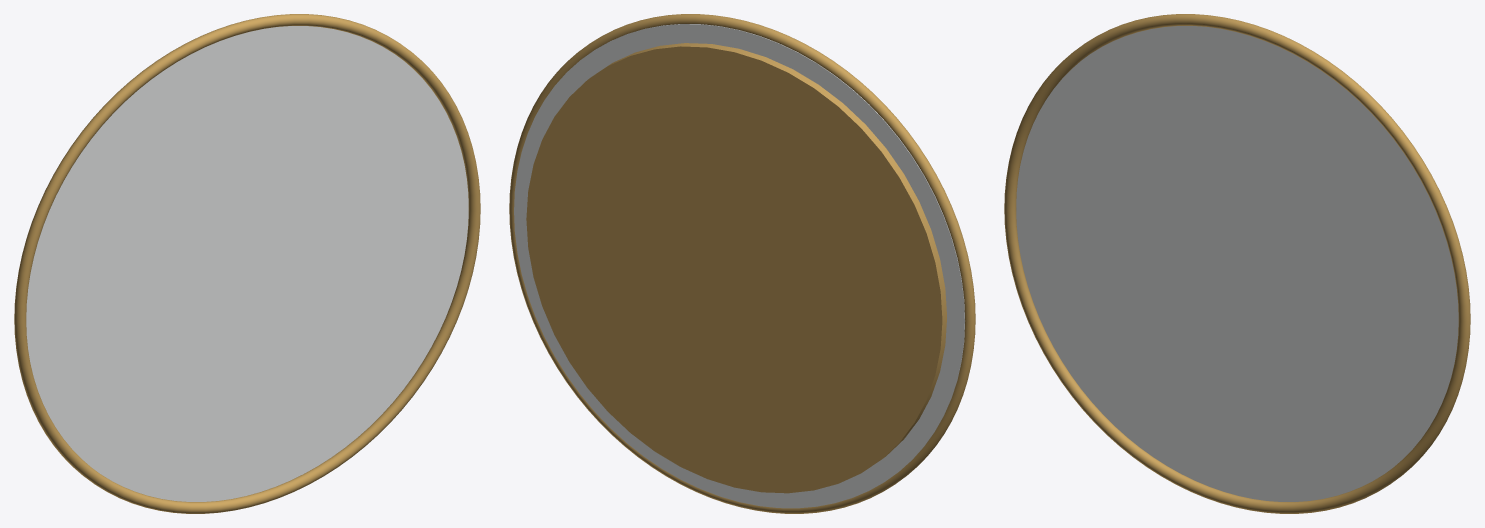
The model's file is espejo_redondo_80_laton.glb.
3 renders of one model, left to right at view 1: azimuth 30°, elevation 25°; view 2: azimuth 150°, elevation 25°; view 3: azimuth 330°, elevation 25°, orthographic.
Parts seen in each view (by area): view 1: espejo_redondo_80_laton; view 2: espejo_redondo_80_laton; view 3: espejo_redondo_80_laton.
Boxes of the visible parts, x1,y1,x2,y2 form: espejo_redondo_80_laton: (14,14,480,513); espejo_redondo_80_laton: (509,14,975,513); espejo_redondo_80_laton: (1004,14,1470,513).
Bounding box in the file's own units: 0.7995 × 0.7995 × 0.033.
